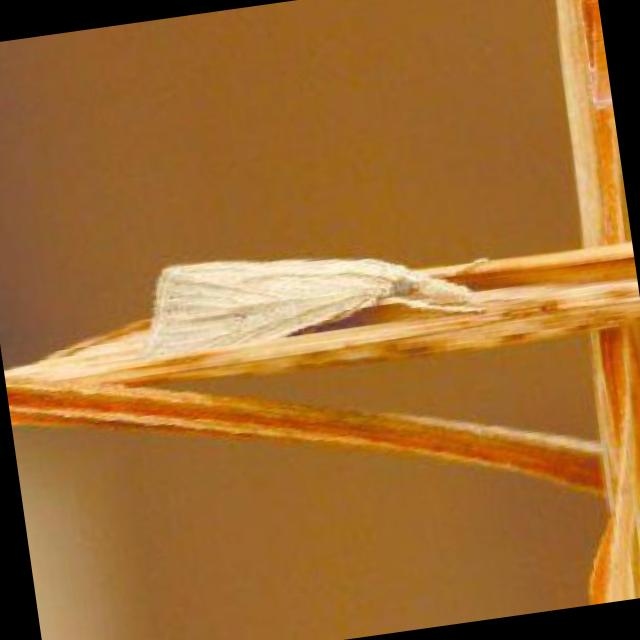stem-borer: (127, 216, 499, 365)
